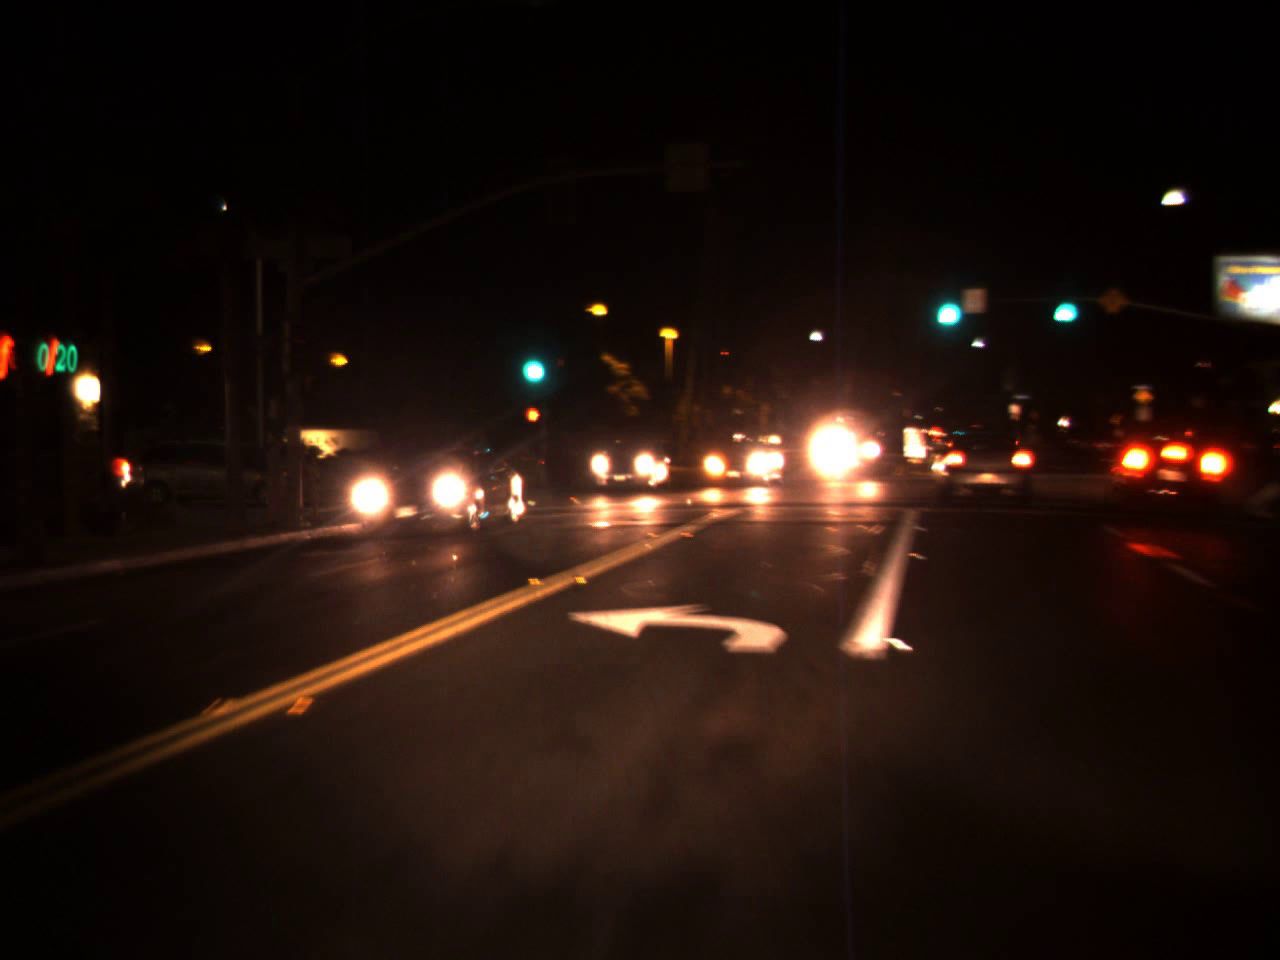go: (512, 329, 549, 392), (927, 274, 966, 334), (1043, 278, 1082, 329)
